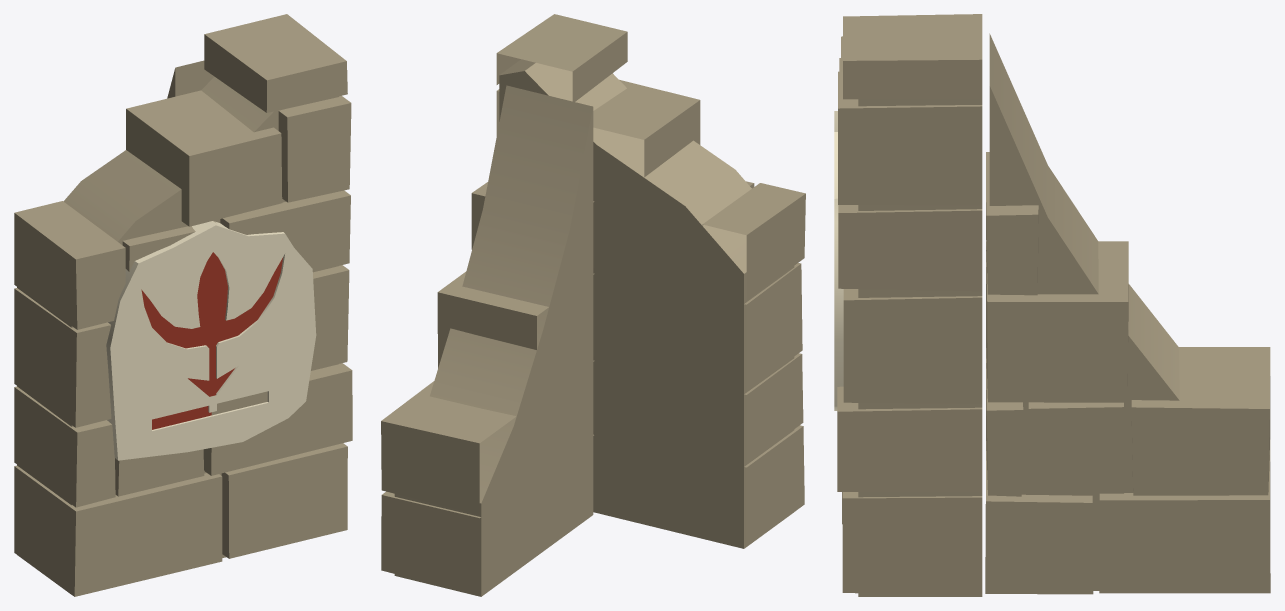
File: wallfrag-1.glb
3 views of the same model, side by side, from view 1: azimuth 30°, elevation 25°; view 2: azimuth 150°, elevation 25°; view 3: azimuth 270°, elevation 25° (orthographic). The views are drawn at different scales.
Parts seen in each view (by area): view 1: wallfrag-1; view 2: wallfrag-1; view 3: wallfrag-1.
Part boxes in pixels (x1,y1,x2,y2): wallfrag-1: (14, 14, 352, 596); wallfrag-1: (381, 14, 805, 596); wallfrag-1: (834, 14, 1270, 596).
Bounding box in the file's own units: 1.01 × 1.66 × 1.22.
